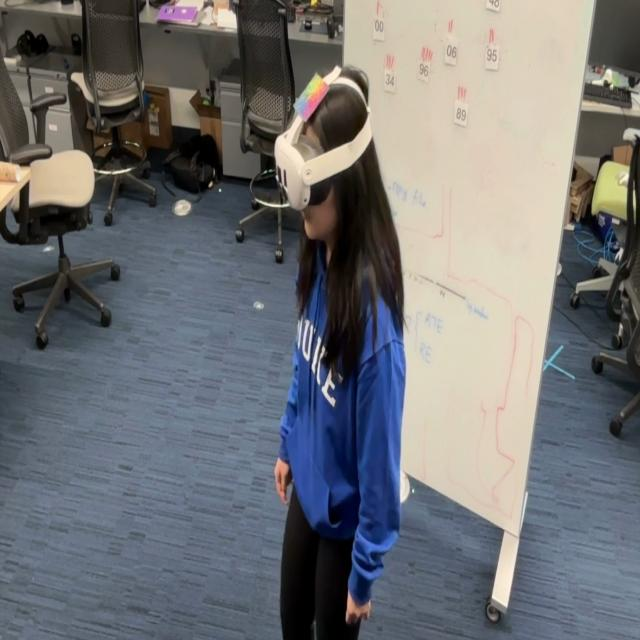Headset: (274, 65, 372, 212)
Marker: (291, 68, 327, 128)
